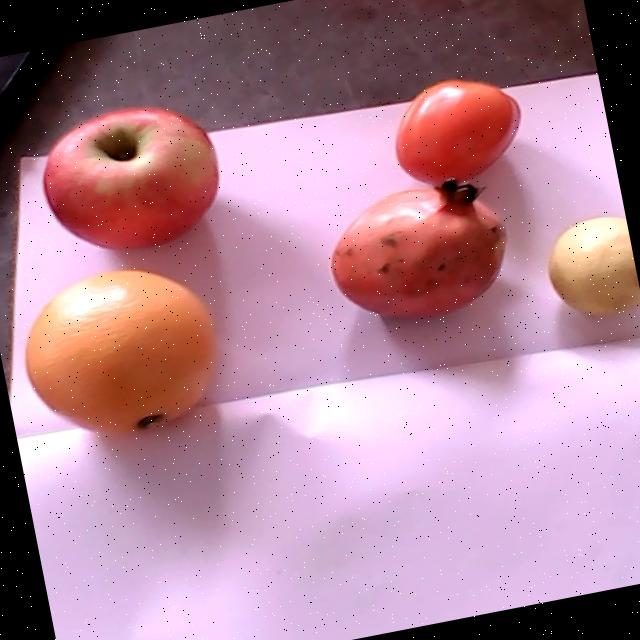apple: (43, 108, 218, 250)
lemon: (548, 216, 640, 314)
orange: (26, 270, 216, 434)
pomegranate: (332, 177, 506, 318)
tomato: (396, 80, 520, 185)
